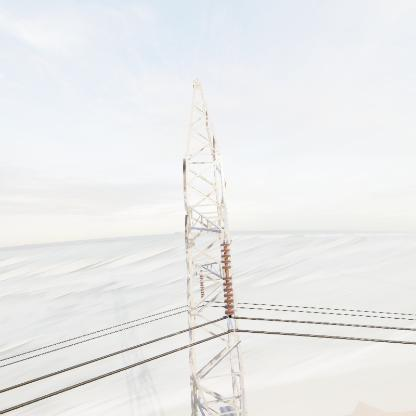insulator: (219, 239, 235, 316)
